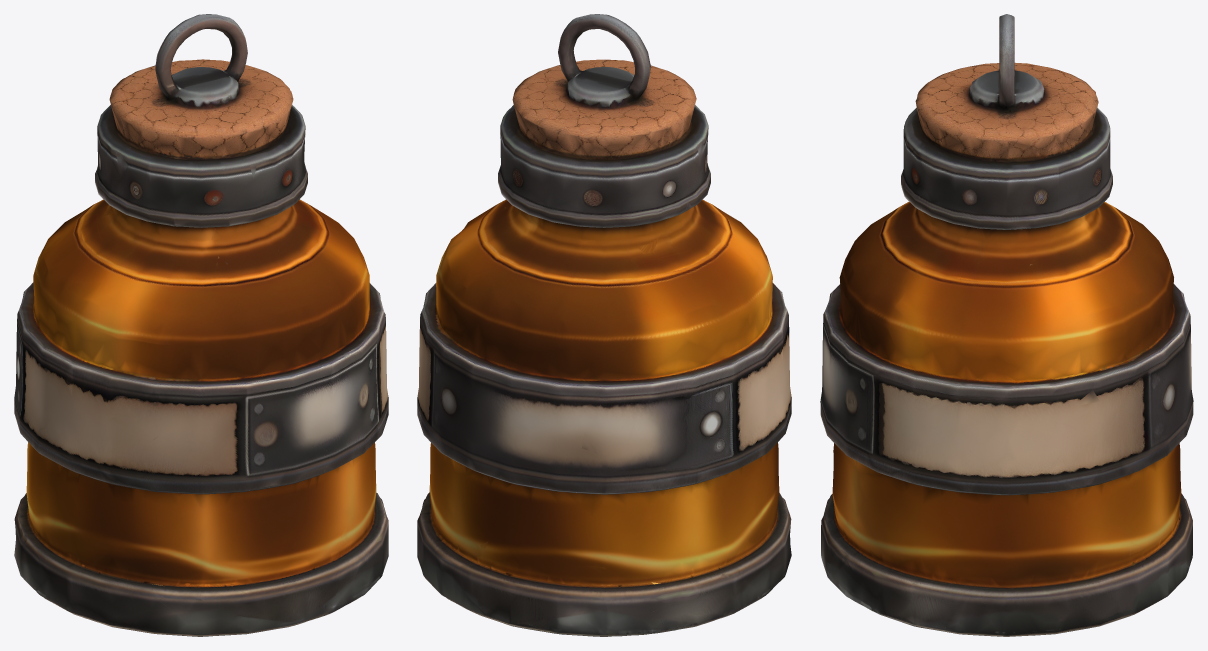
The model's file is cleaned-model.glb.
3 views of the same model, side by side, from view 1: azimuth 30°, elevation 25°; view 2: azimuth 150°, elevation 25°; view 3: azimuth 270°, elevation 25° (orthographic).
Visible parts, largest first — view 1: Mesh_0; view 2: Mesh_0; view 3: Mesh_0.
Boxes of the visible parts, <box> form: Mesh_0: <box>14,14,388,636</box>; Mesh_0: <box>417,14,791,636</box>; Mesh_0: <box>820,14,1193,636</box>.
Bounding box in the file's own units: 0.1372 × 0.22 × 0.1372.
1 material, 1 textured.
